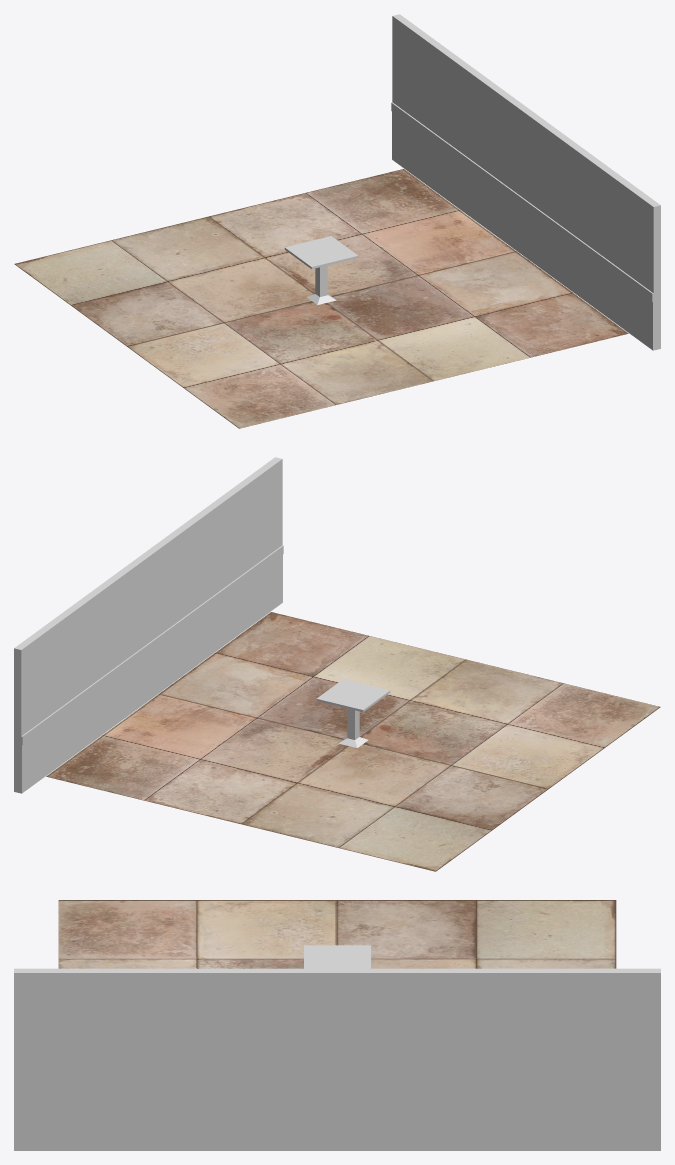
The model's file is mcD.fbx.
3 views of the same model, one above another, from view 1: azimuth 30°, elevation 25°; view 2: azimuth 150°, elevation 25°; view 3: azimuth 270°, elevation 25° (orthographic). The views are drawn at different scales.
Parts seen in each view (by area): view 1: Suelo, Pared, Mesa; view 2: Suelo, Pared, Mesa; view 3: Pared, Suelo, Mesa.
Boxes of the visible parts, x1,y1,x2,y2 form: Suelo: (14, 169, 628, 428); Pared: (391, 14, 660, 350); Mesa: (284, 236, 358, 304); Suelo: (46, 612, 660, 871); Pared: (14, 457, 283, 793); Mesa: (316, 679, 390, 747); Pared: (14, 968, 660, 1150); Suelo: (58, 900, 616, 968); Mesa: (304, 945, 370, 968).
Size of the model in its own units: 2071 by 703 by 2320.
